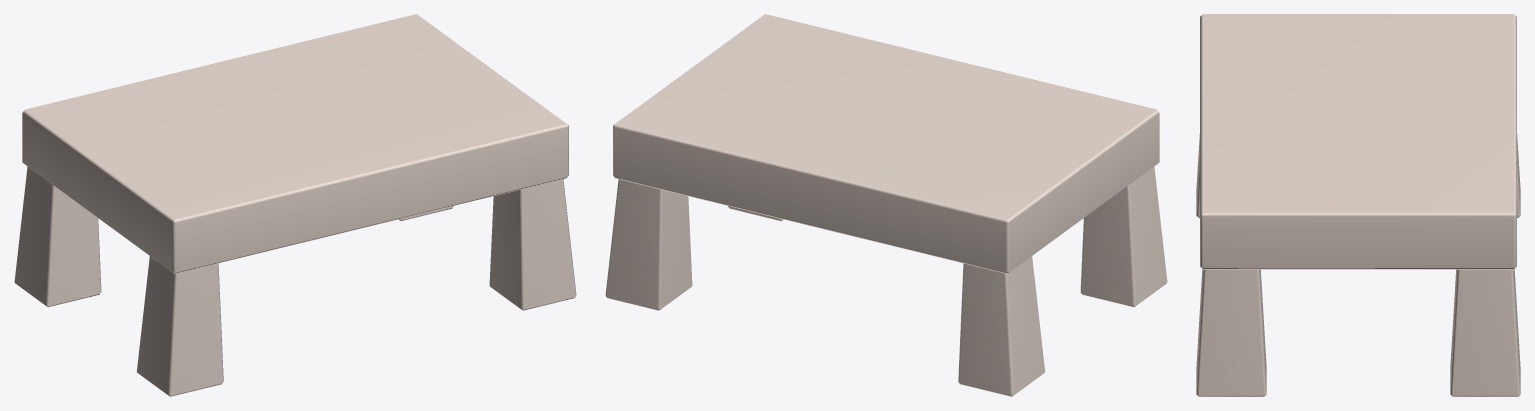
File: Table_5.glb
The picture shows the model from 3 angles, left to right: view 1: azimuth 30°, elevation 25°; view 2: azimuth 150°, elevation 25°; view 3: azimuth 270°, elevation 25°; orthographic projection. The views are drawn at different scales.
Parts seen in each view (by area): view 1: Table_5; view 2: Table_5; view 3: Table_5.
Boxes of the visible parts, x1,y1,x2,y2 form: Table_5: [14, 14, 576, 396]; Table_5: [605, 14, 1167, 396]; Table_5: [1196, 14, 1520, 396].
Size of the model in its own units: 1.29 by 0.5286 by 0.8559.
1 material, 1 textured.
